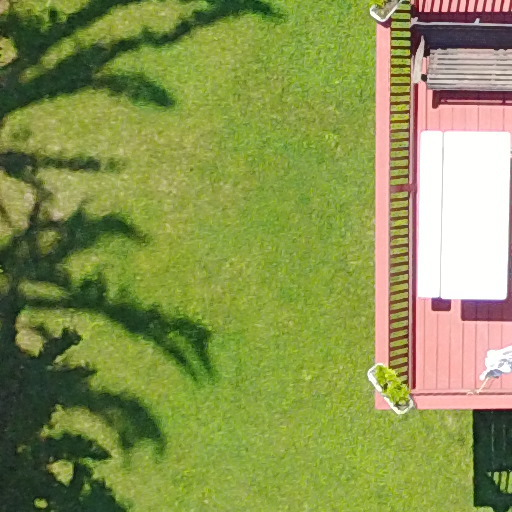porch: (326, 2, 510, 451)
